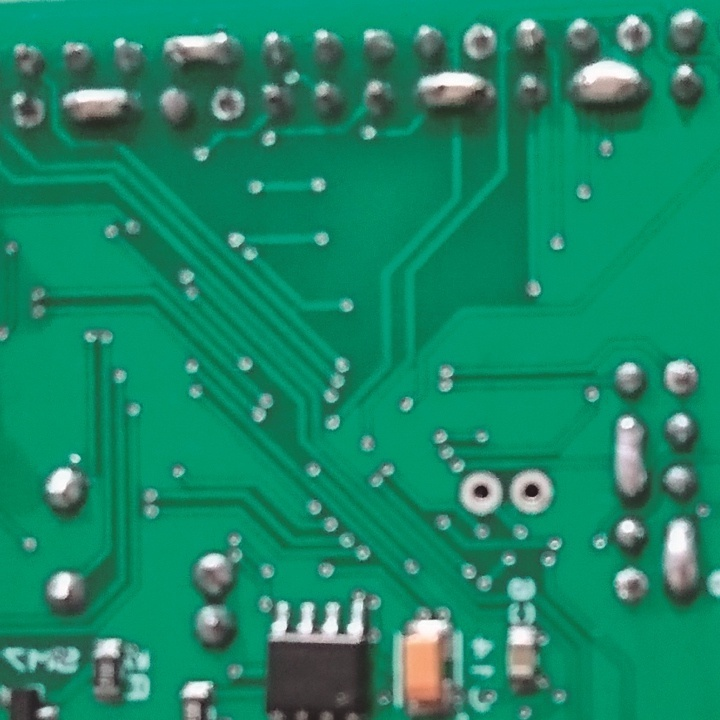F: (508, 469, 556, 518), (456, 469, 503, 517), (6, 89, 46, 132), (614, 12, 653, 55), (209, 85, 248, 124), (663, 356, 699, 398), (611, 567, 650, 605), (462, 23, 499, 60)
P: (608, 412, 653, 503), (565, 60, 646, 110), (660, 515, 699, 606), (415, 69, 496, 110), (59, 85, 138, 123), (163, 31, 240, 69)
